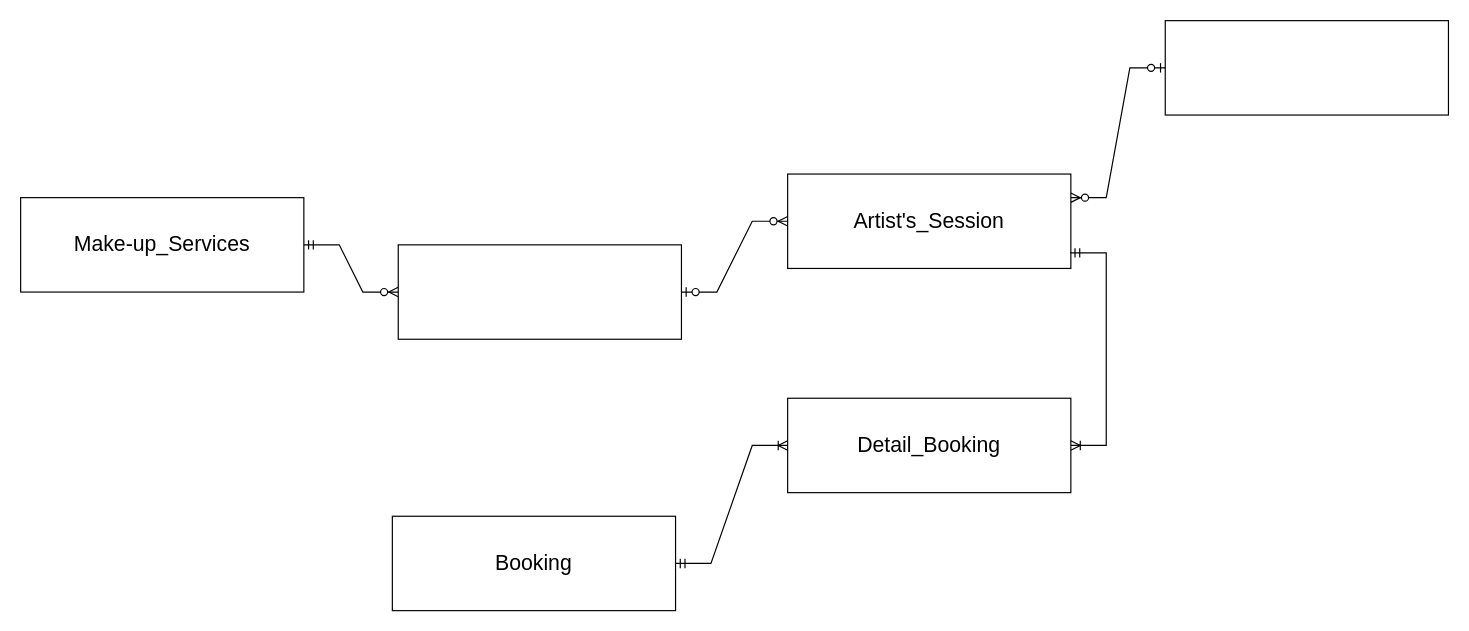
This 1469x631 diagram has some shape labels left out. Here are the shapes that lost their labels. From the top down, the box of each, then its label:
(1164, 19, 1448, 115): Artists' Portfolio
(397, 244, 681, 339): Services
